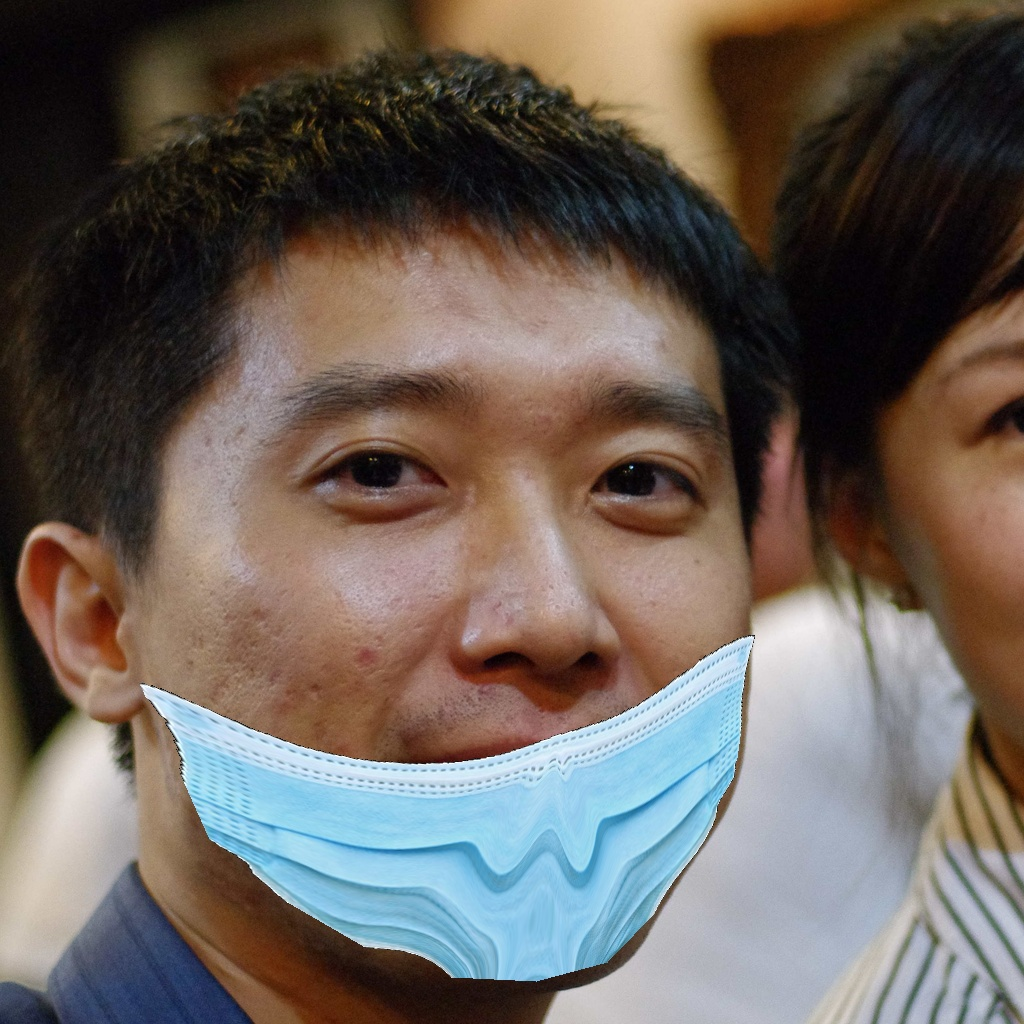mascarilla_mal_puesta: (139, 370, 777, 970)
